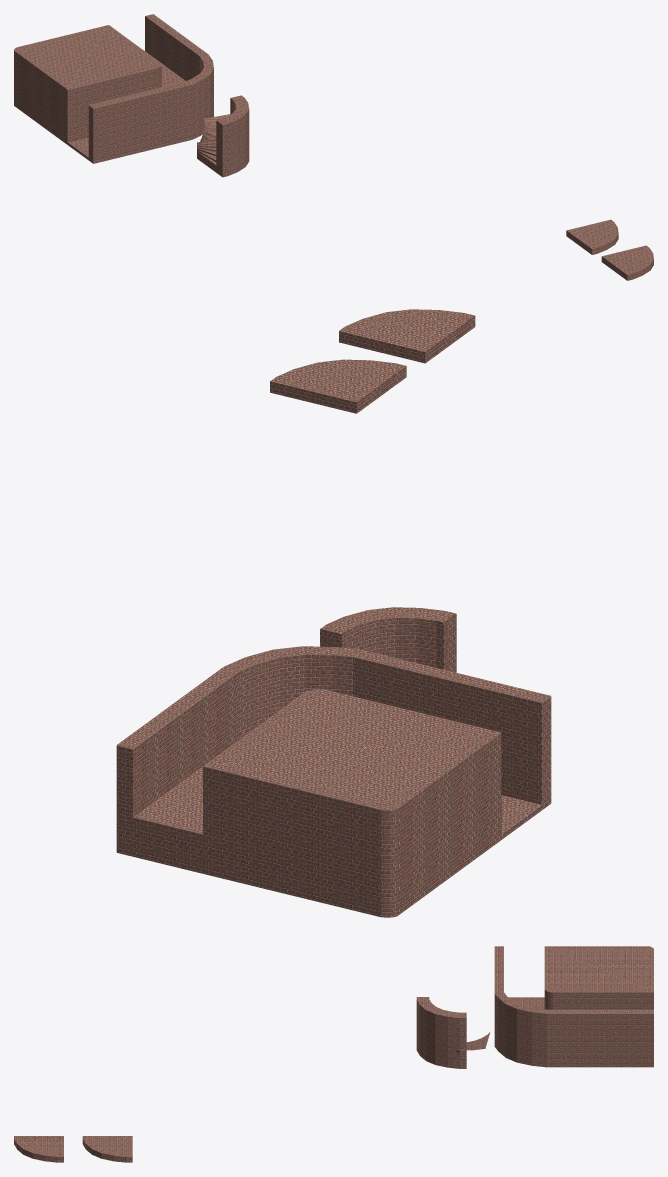
The model's file is pallet.obj.
3 renders of one model, top to bottom at view 1: azimuth 30°, elevation 25°; view 2: azimuth 150°, elevation 25°; view 3: azimuth 270°, elevation 25°, orthographic. The views are drawn at different scales.
Visible parts, largest first — view 1: entity0_brush36, entity0_brush44, entity0_brush45, entity0_brush42, entity0_brush0, entity0_brush22, entity0_brush38, entity0_brush37, entity0_brush23, entity0_brush24; view 2: entity0_brush44, entity0_brush36, entity0_brush42, entity0_brush45, entity0_brush29, entity0_brush0, entity0_brush40, entity0_brush41, entity0_brush39, entity0_brush8, entity0_brush38, entity0_brush24 (+6 smaller); view 3: entity0_brush42, entity0_brush45, entity0_brush44, entity0_brush0, entity0_brush40, entity0_brush41, entity0_brush26, entity0_brush39, entity0_brush27, entity0_brush25, entity0_brush38, entity0_brush36 (+2 smaller).
Boxes of the visible parts, bbox=[...] form: entity0_brush36: bbox=[88, 81, 192, 163]; entity0_brush44: bbox=[14, 25, 108, 144]; entity0_brush45: bbox=[67, 25, 161, 141]; entity0_brush42: bbox=[145, 14, 208, 80]; entity0_brush0: bbox=[601, 245, 653, 280]; entity0_brush22: bbox=[216, 119, 228, 171]; entity0_brush38: bbox=[193, 73, 209, 135]; entity0_brush37: bbox=[186, 78, 200, 139]; entity0_brush23: bbox=[220, 116, 237, 169]; entity0_brush24: bbox=[228, 112, 245, 165]; entity0_brush44: bbox=[203, 732, 501, 917]; entity0_brush36: bbox=[353, 649, 551, 809]; entity0_brush42: bbox=[116, 667, 238, 856]; entity0_brush45: bbox=[203, 689, 500, 766]; entity0_brush29: bbox=[132, 739, 239, 873]; entity0_brush0: bbox=[339, 309, 475, 363]; entity0_brush40: bbox=[245, 649, 279, 726]; entity0_brush41: bbox=[224, 657, 256, 739]; entity0_brush39: bbox=[273, 646, 305, 709]; entity0_brush8: bbox=[270, 377, 356, 413]; entity0_brush38: bbox=[303, 646, 335, 691]; entity0_brush24: bbox=[393, 607, 420, 662]; entity0_brush42: bbox=[546, 1009, 653, 1067]; entity0_brush45: bbox=[544, 946, 653, 1009]; entity0_brush44: bbox=[545, 946, 653, 992]; entity0_brush0: bbox=[14, 1136, 63, 1162]; entity0_brush40: bbox=[517, 1005, 534, 1065]; entity0_brush41: bbox=[532, 1008, 547, 1067]; entity0_brush26: bbox=[435, 1010, 452, 1061]; entity0_brush39: bbox=[506, 1001, 522, 1062]; entity0_brush27: bbox=[448, 1012, 461, 1063]; entity0_brush25: bbox=[426, 1007, 442, 1058]; entity0_brush38: bbox=[498, 996, 512, 1057]; entity0_brush36: bbox=[494, 946, 503, 992].
Bounding box in the file's own units: 1904 × 336 × 3280.
